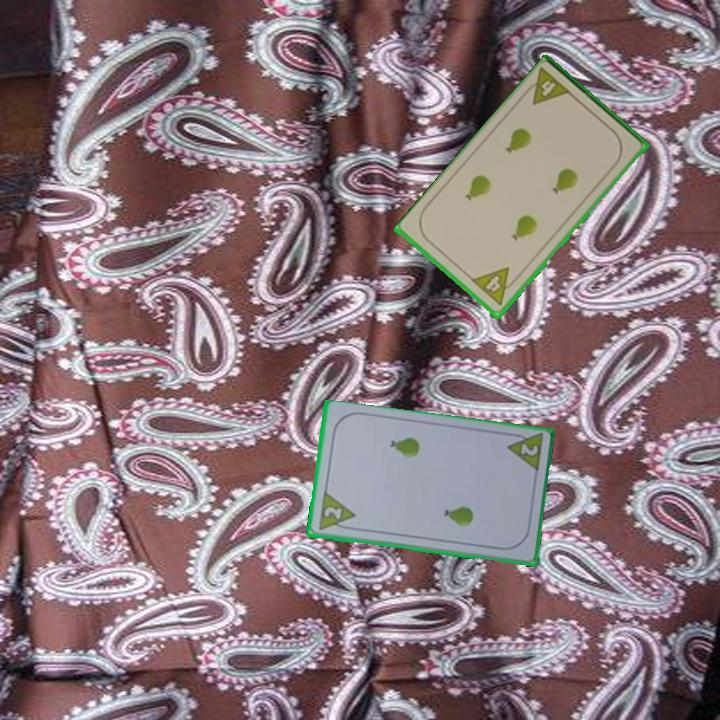2p: (502, 429, 546, 476), (320, 503, 344, 522)
4p: (519, 65, 574, 109), (469, 264, 521, 309)
